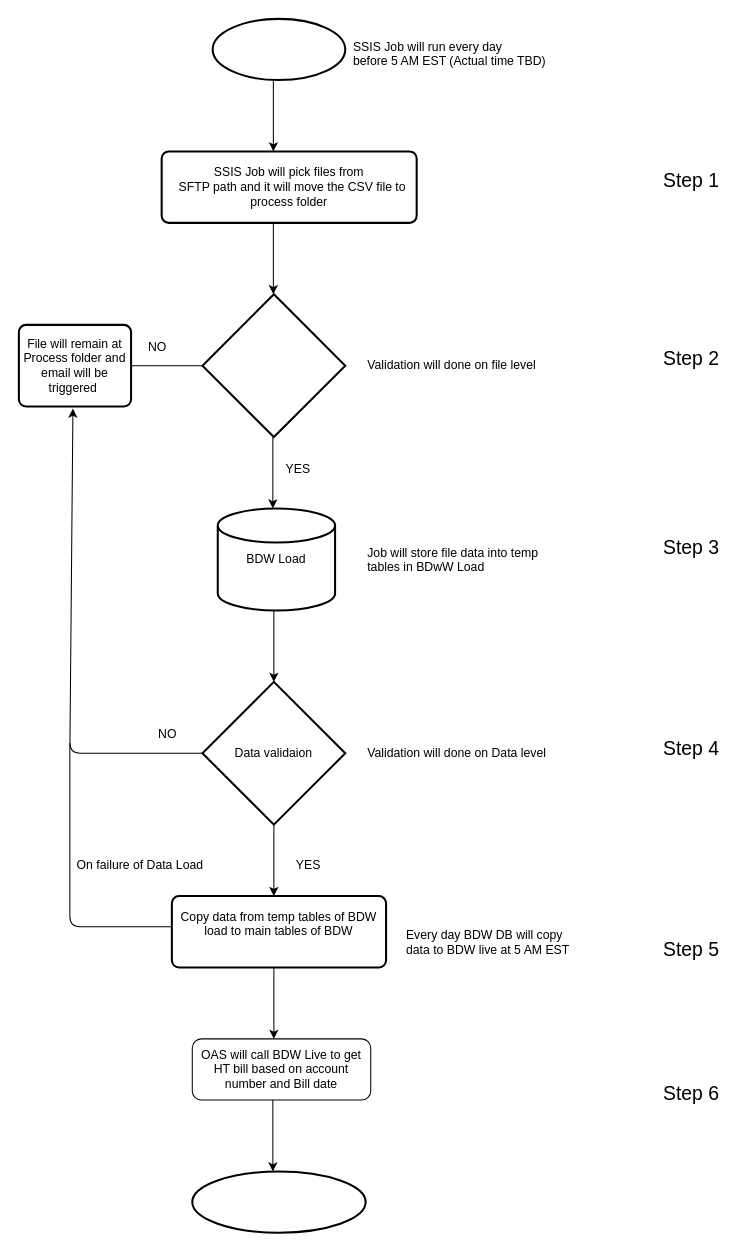
Image size: 750x1251. Some labels were removed from this diagram. Each missing label, with the box of its shape:
Display Bill in BA: (191, 1170, 366, 1233)
File Validation: (201, 293, 346, 438)
Job Processing: (211, 17, 346, 81)
